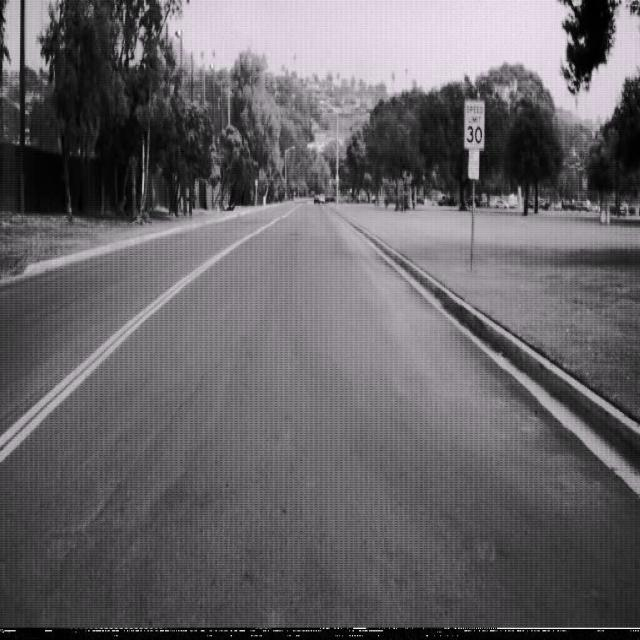speedLimit30: (463, 97, 486, 151)
